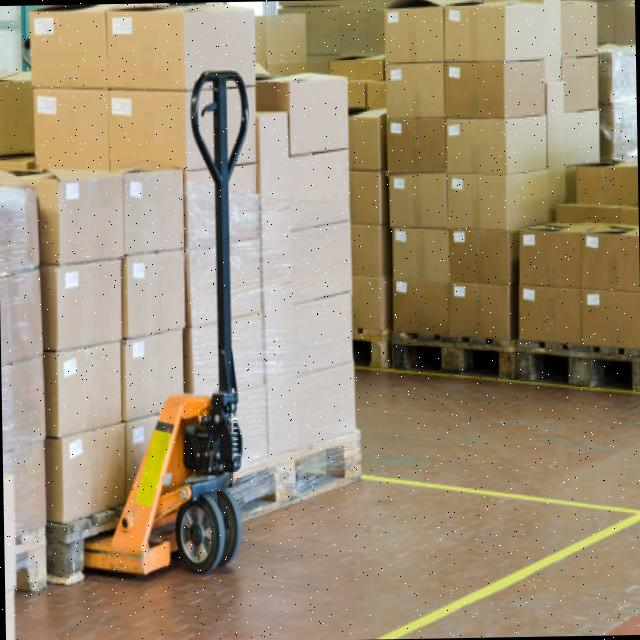Wooden-Pallets: (355, 326, 640, 396), (232, 425, 366, 517), (511, 336, 638, 406), (392, 323, 509, 381)
